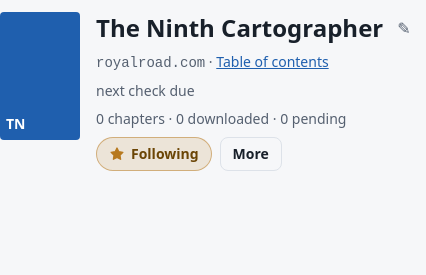
Scenario: NovelHeader › Sync › says "Syncing…" in the menu and is disabled while a sync runs
Step 1. Click the button "More" → (251, 154), box [220,137,282,171]
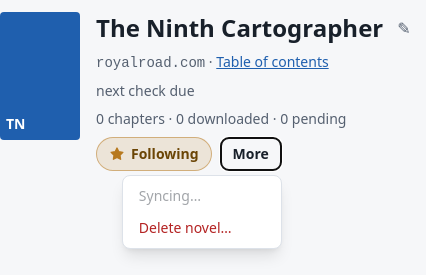
Expected: the button "Syncing…" is disabled, [127,180,277,212]
